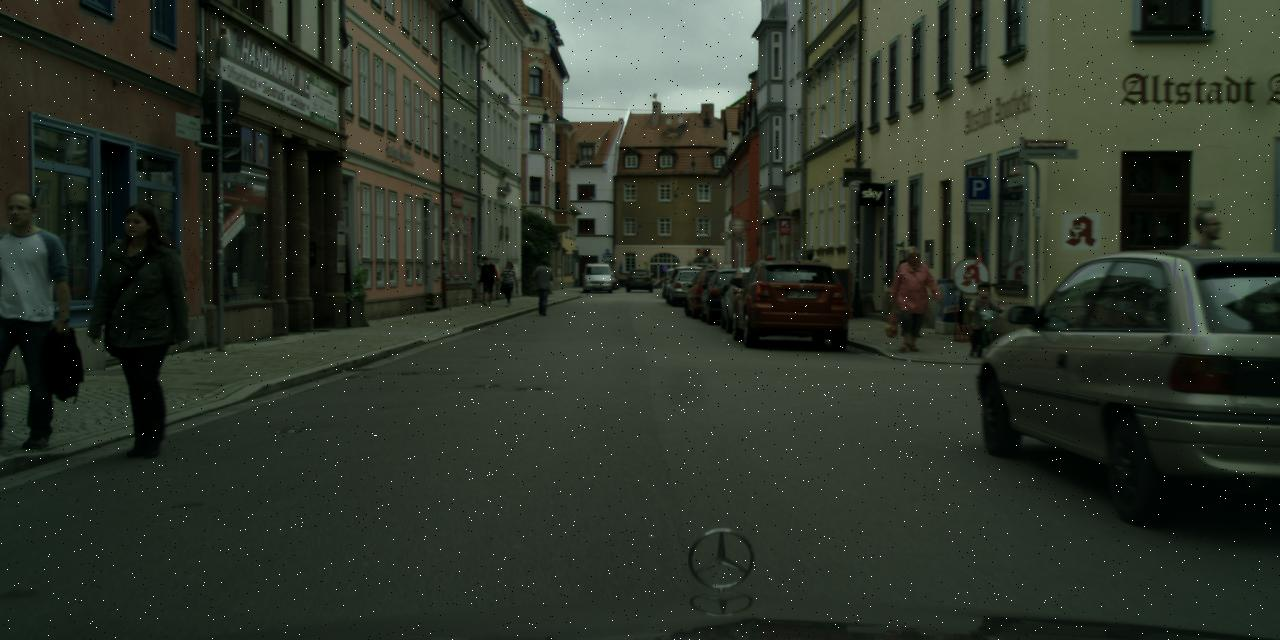ped: (92, 203, 195, 455), (0, 192, 68, 444), (1162, 211, 1243, 408), (890, 246, 932, 350), (968, 282, 998, 354), (531, 260, 554, 315), (476, 255, 496, 305), (498, 260, 518, 306)
